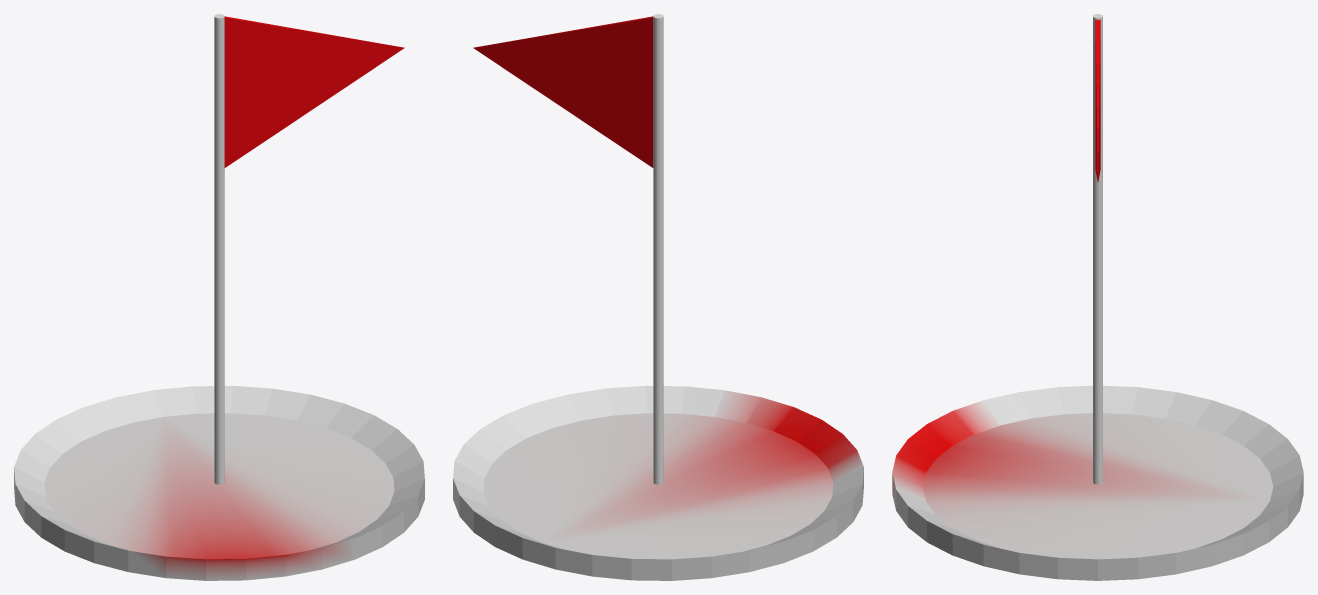
File: flag.fbx
3 renders of one model, left to right at view 1: azimuth 30°, elevation 25°; view 2: azimuth 150°, elevation 25°; view 3: azimuth 270°, elevation 25°, orthographic.
Visible parts, largest first — view 1: Ground, flag, Pole; view 2: Ground, flag, Pole; view 3: Ground, Pole, flag.
Boxes of the visible parts, x1,y1,x2,y2 form: Ground: (14, 385, 424, 580); flag: (224, 16, 404, 167); Pole: (214, 14, 224, 484); Ground: (453, 385, 863, 580); flag: (473, 16, 653, 167); Pole: (653, 14, 663, 484); Ground: (892, 385, 1303, 580); Pole: (1093, 14, 1102, 484); flag: (1095, 19, 1100, 182).
Size of the model in its own units: 163 by 205 by 160.
